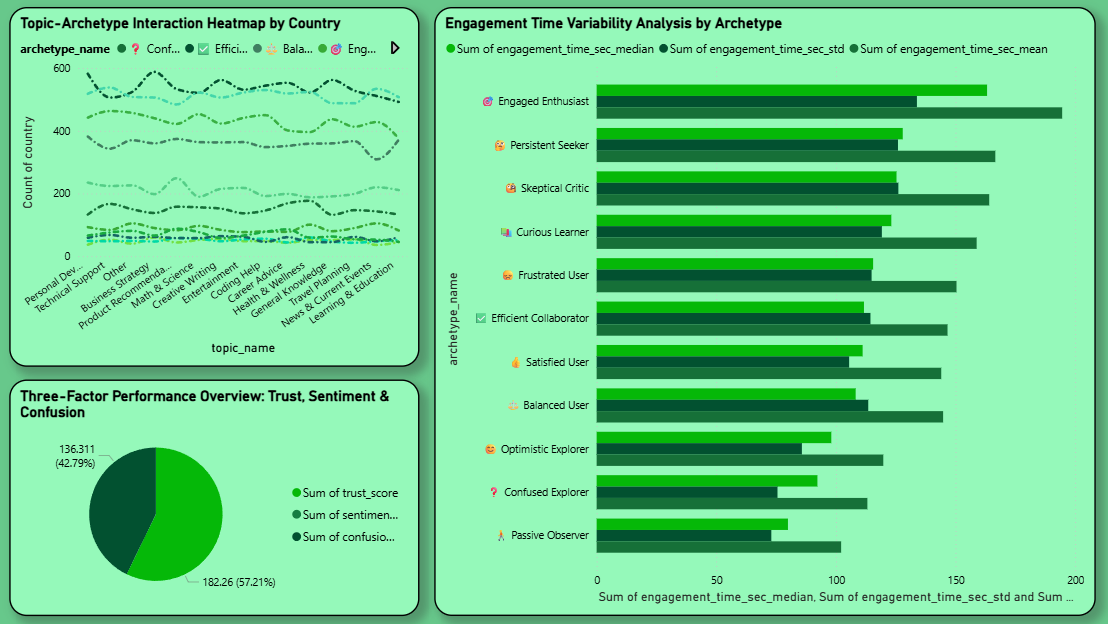

The page's visual inventory and layout, read from the dashboard file:
{"tool":"powerbi","page":{"name":"Page 4","canvas":[1280,720],"ordinal":3},"visuals":[{"type":"lineChart","title":"Topic-Archetype Interaction Heatmap by Country","fields":{"Category":["powerbi_interaction_data (3).topic_name"],"Series":["powerbi_interaction_data (3).archetype_name"],"Y":["CountNonNull(powerbi_interaction_data (3).country)"]},"box":[18.6,11.4,468.6,411.4],"z":0},{"type":"pieChart","title":"Three-Factor Performance Overview: Trust, Sentiment & Confusion","fields":{"Y":["Sum(powerbi_temporal_trends (2).trust_score)","Sum(powerbi_temporal_trends (2).sentiment_compound)","Sum(powerbi_temporal_trends (2).confusion_score)"]},"box":[18.6,437.1,468.6,270],"z":1000},{"type":"clusteredBarChart","title":"Engagement Time Variability Analysis by Archetype","fields":{"Category":["powerbi_archetype_summary (2).archetype_name"],"Y":["Sum(powerbi_archetype_summary (2).engagement_time_sec_median)","Sum(powerbi_archetype_summary (2).engagement_time_sec_std)","Sum(powerbi_archetype_summary (2).engagement_time_sec_mean)"]},"box":[505,11.7,755,695],"z":2000}]}

Visuals, with their boxes in screenshot pixels (x1, y1, x2, y2), scaled from the page's 1280x720 canvas onto the 1108x624 screenshot:
"Topic-Archetype Interaction Heatmap by Country" lineChart: bbox=[16, 10, 422, 366]
"Three-Factor Performance Overview: Trust, Sentiment & Confusion" pieChart: bbox=[16, 379, 422, 613]
"Engagement Time Variability Analysis by Archetype" clusteredBarChart: bbox=[437, 10, 1091, 612]
